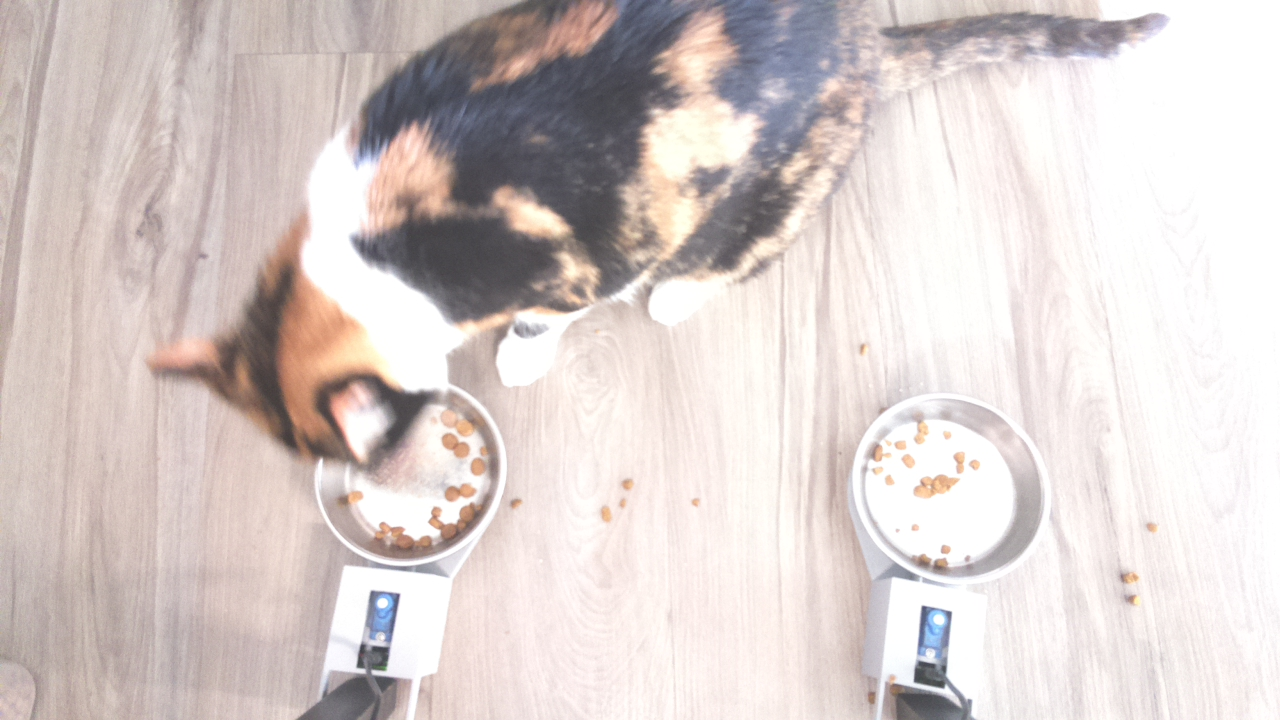bella_eating: (143, 237, 511, 572)
open_bowl: (842, 387, 1055, 587)
